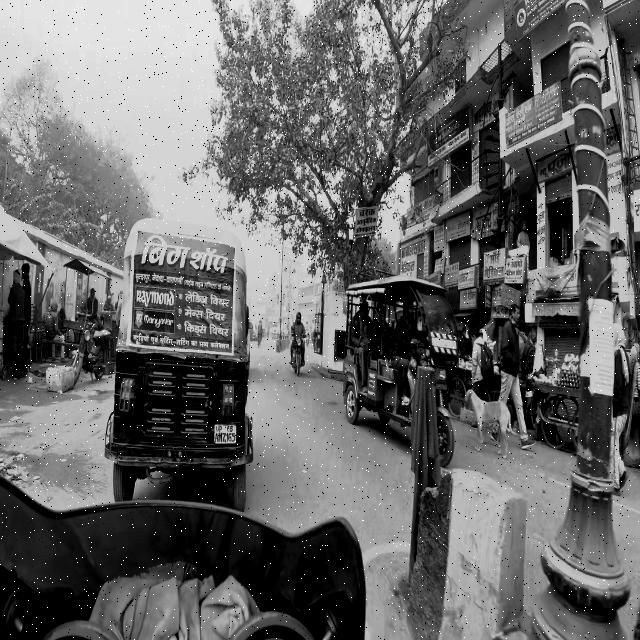Auto-Rickshaw: (112, 204, 262, 516)
Bike: (289, 308, 310, 379)
Toto: (344, 259, 470, 468)
